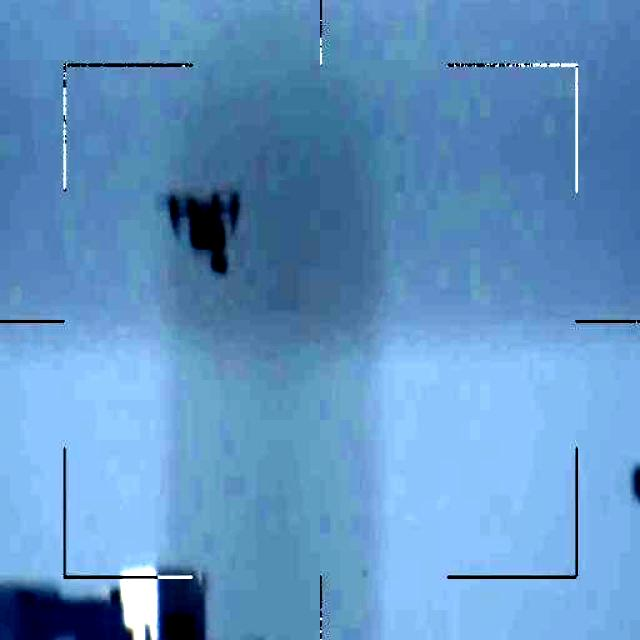bird: (168, 186, 240, 272)
